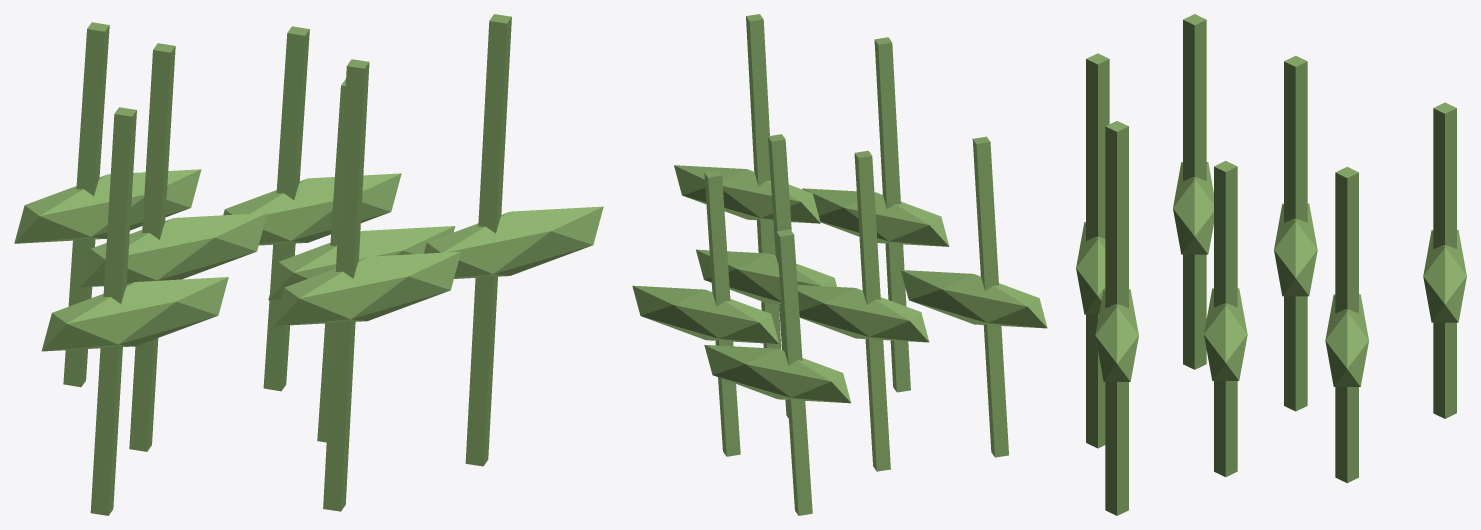
The model's file is plant_wild_millet_growing.glb.
3 views of the same model, side by side, from view 1: azimuth 30°, elevation 25°; view 2: azimuth 150°, elevation 25°; view 3: azimuth 270°, elevation 25° (orthographic). The views are drawn at different scales.
Visible parts, largest first — view 1: plant_wild_millet_growing; view 2: plant_wild_millet_growing; view 3: plant_wild_millet_growing.
Boxes of the visible parts, x1,y1,x2,y2 form: plant_wild_millet_growing: (14, 14, 603, 515); plant_wild_millet_growing: (632, 14, 1047, 515); plant_wild_millet_growing: (1076, 14, 1466, 515).
Size of the model in its own units: 0.5479 by 0.4423 by 0.3959.
